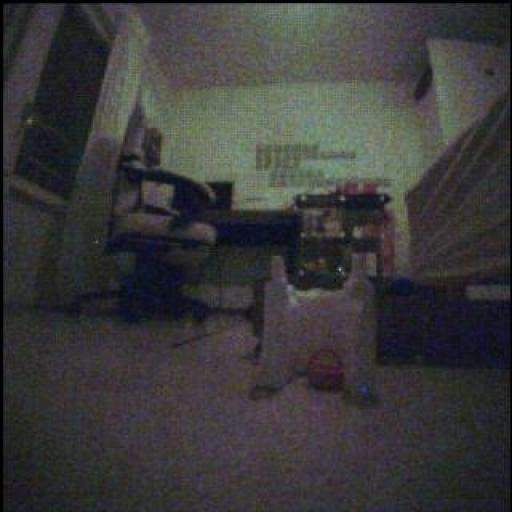basket: (308, 350, 345, 391), (345, 182, 361, 196), (364, 184, 379, 197)
